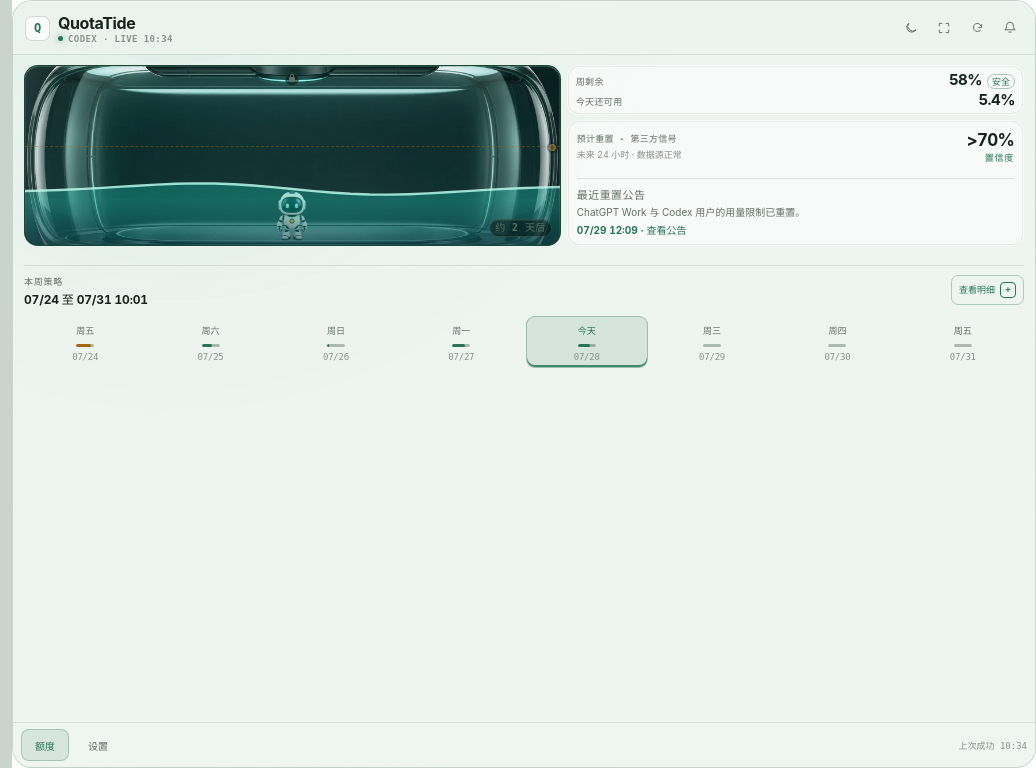
Weekly Ledger overview › keeps earned reset credits read-only and inside expanded details
This screenshot has width=1036, height=768.
Click the button "查看明细" at (988, 290), box [951,275,1024,305]
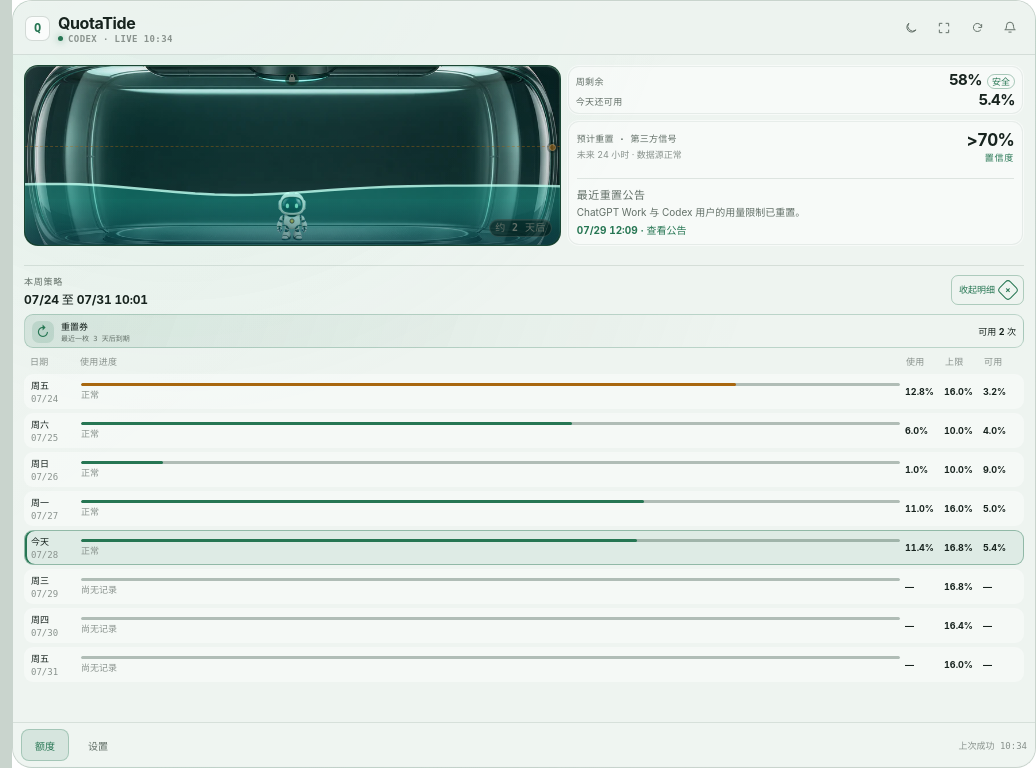
Expected: the text "重置券" is shown, [61,321,88,332]
Expected: the text "可用 2 次" is shown, [978,325,1016,338]
Expected: the text "最近一枚 3 天后到期" is shown, [61,335,130,343]
